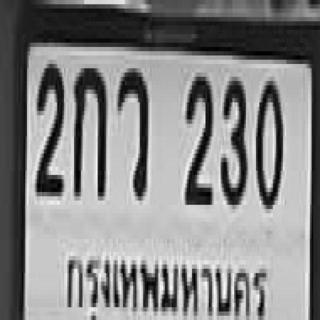A01: (72, 62, 104, 194)
A37: (116, 64, 146, 196)
N00: (254, 75, 281, 203)
N02: (34, 60, 62, 192), (183, 70, 210, 198)
N03: (219, 70, 246, 198)
P04: (64, 243, 268, 320)
